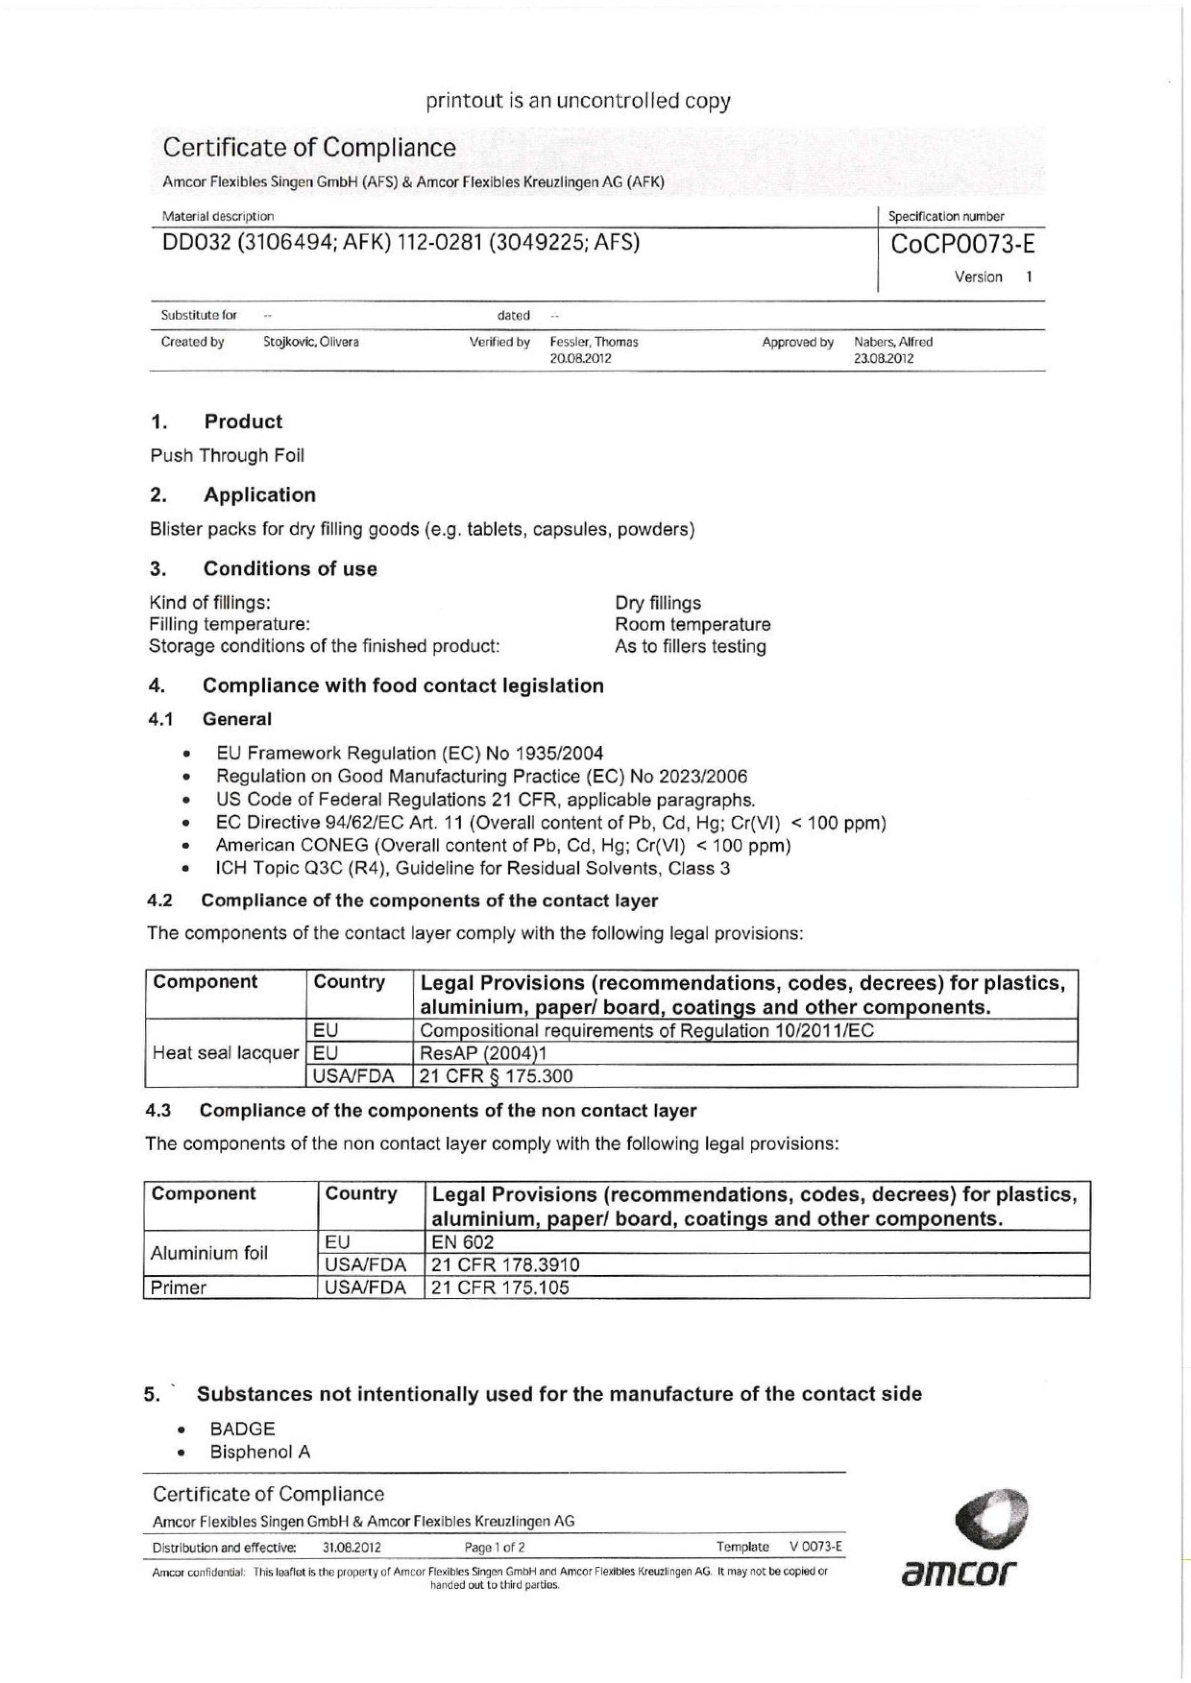nolines: (146, 588, 781, 659)
partial_lined_merged_cells: (150, 196, 1052, 375), (142, 1177, 1093, 1303), (143, 967, 1080, 1092), (138, 1469, 849, 1561)
